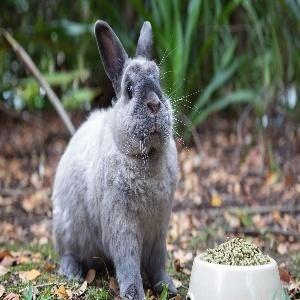rabbit: (51, 21, 179, 300)
